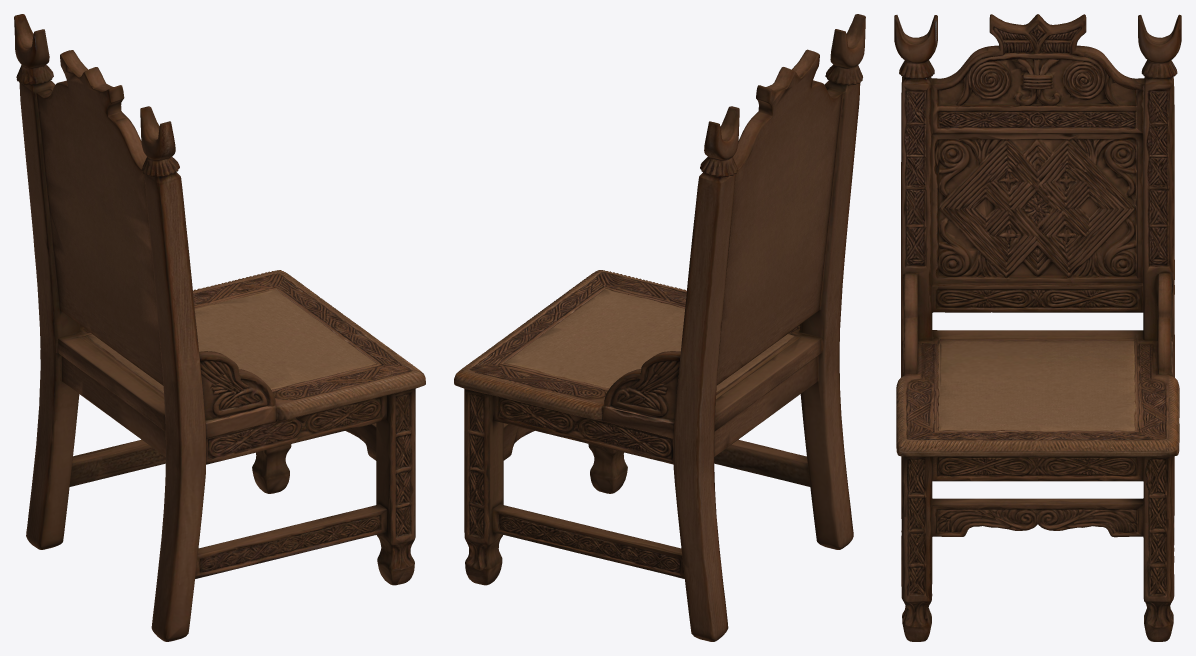
File: Kursi-Tamu-Pareppo-v1.glb
The picture shows the model from 3 angles, left to right: view 1: azimuth 30°, elevation 25°; view 2: azimuth 150°, elevation 25°; view 3: azimuth 270°, elevation 25°; orthographic projection. The views are drawn at different scales.
Visible parts, largest first — view 1: tripo_node_ddb617f0-b8ac-47f5-a734-321cec514c7a; view 2: tripo_node_ddb617f0-b8ac-47f5-a734-321cec514c7a; view 3: tripo_node_ddb617f0-b8ac-47f5-a734-321cec514c7a.
Boxes of the visible parts, box(x1,y1,x2,y2) form: tripo_node_ddb617f0-b8ac-47f5-a734-321cec514c7a: box(14, 14, 425, 641); tripo_node_ddb617f0-b8ac-47f5-a734-321cec514c7a: box(454, 14, 865, 641); tripo_node_ddb617f0-b8ac-47f5-a734-321cec514c7a: box(894, 14, 1181, 641).
Bounding box in the file's own units: 0.5349 × 0.9803 × 0.502.
Materials: 1 (1 with a texture image).
